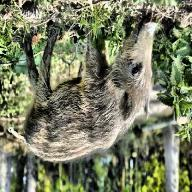boar: (9, 2, 165, 169)
